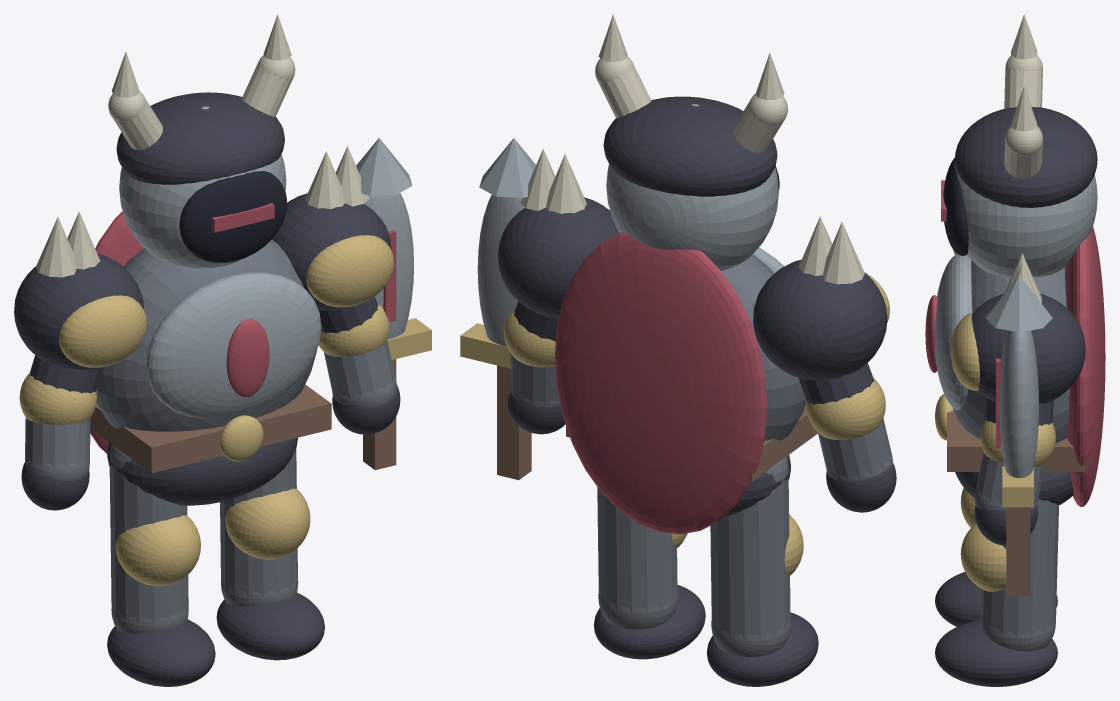
The model's file is boss_ashen_knight.glb.
3 views of the same model, side by side, from view 1: azimuth 30°, elevation 25°; view 2: azimuth 150°, elevation 25°; view 3: azimuth 270°, elevation 25° (orthographic). The views are drawn at different scales.
Visible parts, largest first — view 1: boss_chestplate, boss_torso, boss_helm_crown, boss_belt, boss_pauldron_-1, boss_face_void, boss_hips, boss_leg_-1_shaft, boss_helmet, boss_boot_1, boss_boot_-1, boss_pauldron_1 (+35 smaller); view 2: boss_cape, boss_helm_crown, boss_pauldron_-1, boss_helmet, boss_leg_-1_shaft, boss_pauldron_1, boss_leg_1_shaft, boss_torso, boss_boot_1, boss_boot_-1, boss_sword_blade, boss_elbow_-1 (+25 smaller); view 3: boss_helm_crown, boss_helmet, boss_cape, boss_pauldron_1, boss_leg_1_shaft, boss_sword_blade, boss_boot_1, boss_chestplate, boss_torso, boss_belt, boss_sword_grip, boss_knee_1 (+23 smaller).
Boxes of the visible parts, x1,y1,x2,y2 form: boss_chestplate: (146,272,321,418); boss_torso: (96,239,317,431); boss_helm_crown: (116,92,284,184); boss_belt: (90,384,331,473); boss_pauldron_-1: (14,253,143,369); boss_face_void: (179,171,287,262); boss_hips: (107,437,297,505); boss_leg_-1_shaft: (109,465,188,624); boss_helmet: (119,106,286,268); boss_boot_1: (216,592,324,660); boss_boot_-1: (107,619,215,686); boss_pauldron_1: (272,193,391,310); boss_cape: (554,232,767,534); boss_helm_crown: (603,96,777,196); boss_pauldron_-1: (753,259,887,380); boss_helmet: (606,104,778,270); boss_leg_-1_shaft: (710,477,790,641); boss_pauldron_1: (498,197,619,318); boss_leg_1_shaft: (597,487,677,613); boss_torso: (721,254,806,440); boss_boot_1: (593,585,705,659); boss_boot_-1: (706,612,818,686); boss_sword_blade: (477,194,524,346); boss_elbow_-1: (806,378,885,440); boss_helm_crown: (954,107,1097,207); boss_helmet: (954,161,1097,277); boss_cape: (1064,226,1105,506); boss_pauldron_1: (972,294,1085,404); boss_leg_1_shaft: (980,499,1058,638); boss_sword_blade: (999,330,1038,477); boss_boot_1: (935,620,1057,686); boss_chestplate: (935,254,972,410); boss_torso: (953,260,1069,443); boss_belt: (947,410,1085,471); boss_sword_grip: (1006,507,1030,596); boss_knee_1: (960,523,1006,591).
Size of the model in its own units: 2.29 by 3.36 by 0.908.
